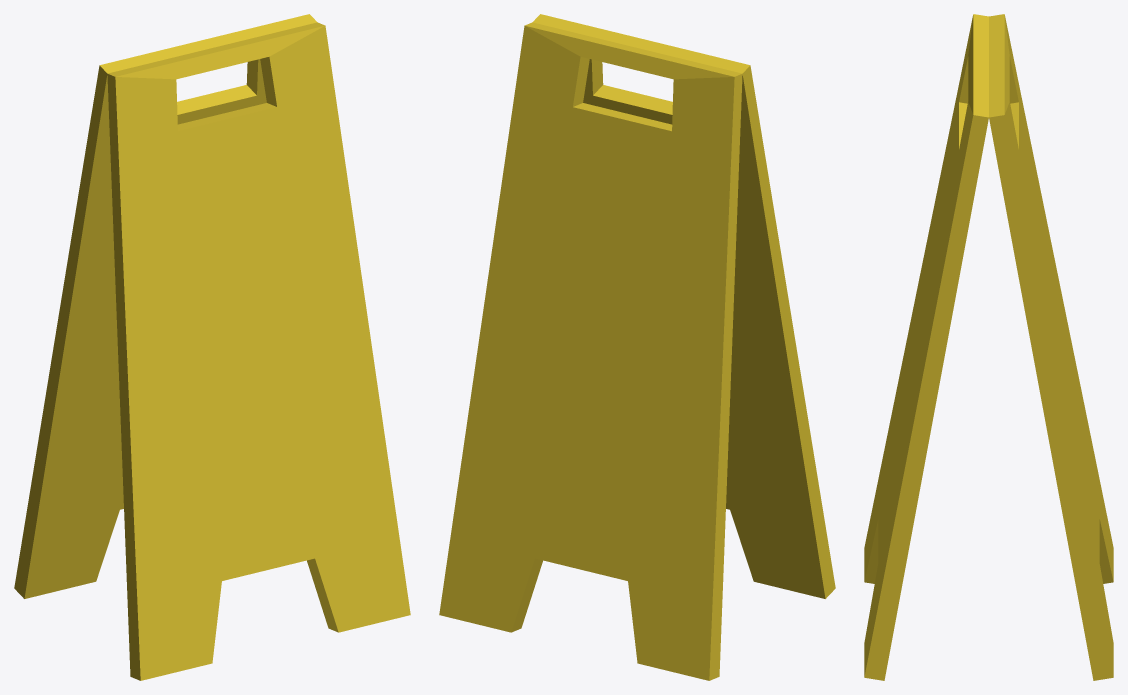
File: CautionFloor.fbx
The picture shows the model from 3 angles, left to right: view 1: azimuth 30°, elevation 25°; view 2: azimuth 150°, elevation 25°; view 3: azimuth 270°, elevation 25°; orthographic projection.
Parts seen in each view (by area): view 1: CautionFloor; view 2: CautionFloor; view 3: CautionFloor.
Part boxes in pixels (bbox=[...]): CautionFloor: bbox=[14, 14, 410, 680]; CautionFloor: bbox=[439, 14, 835, 680]; CautionFloor: bbox=[864, 14, 1113, 680].
Bounding box in the file's own units: 0.3 × 0.2433 × 0.594.
